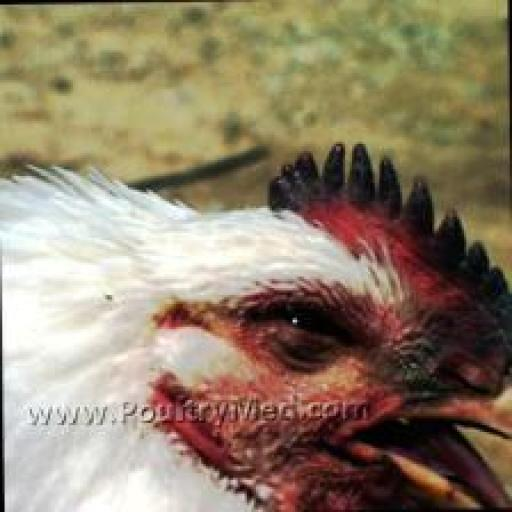disease: (205, 268, 415, 391)
